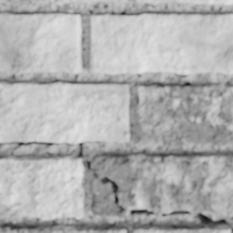brick: (91, 14, 232, 73), (0, 82, 130, 143), (137, 84, 232, 145), (0, 156, 84, 218), (0, 13, 82, 72), (0, 225, 127, 232), (133, 225, 228, 232), (0, 0, 126, 4), (137, 0, 232, 3)
broken_brick: (90, 153, 232, 212), (88, 174, 126, 218)
crack: (0, 140, 232, 232)
